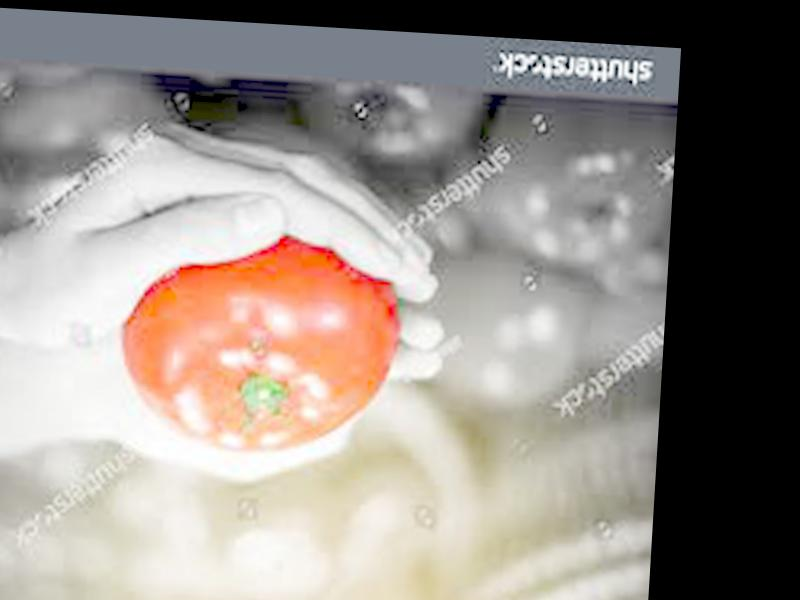Tomato: (115, 227, 402, 459)
